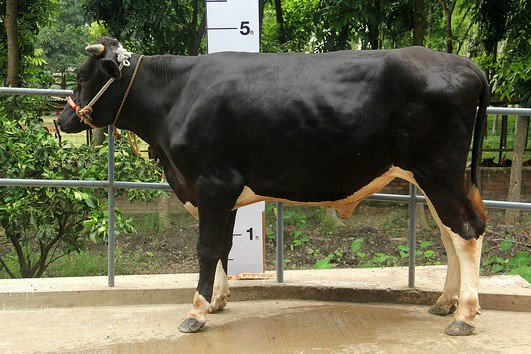cow: (54, 37, 496, 341)
